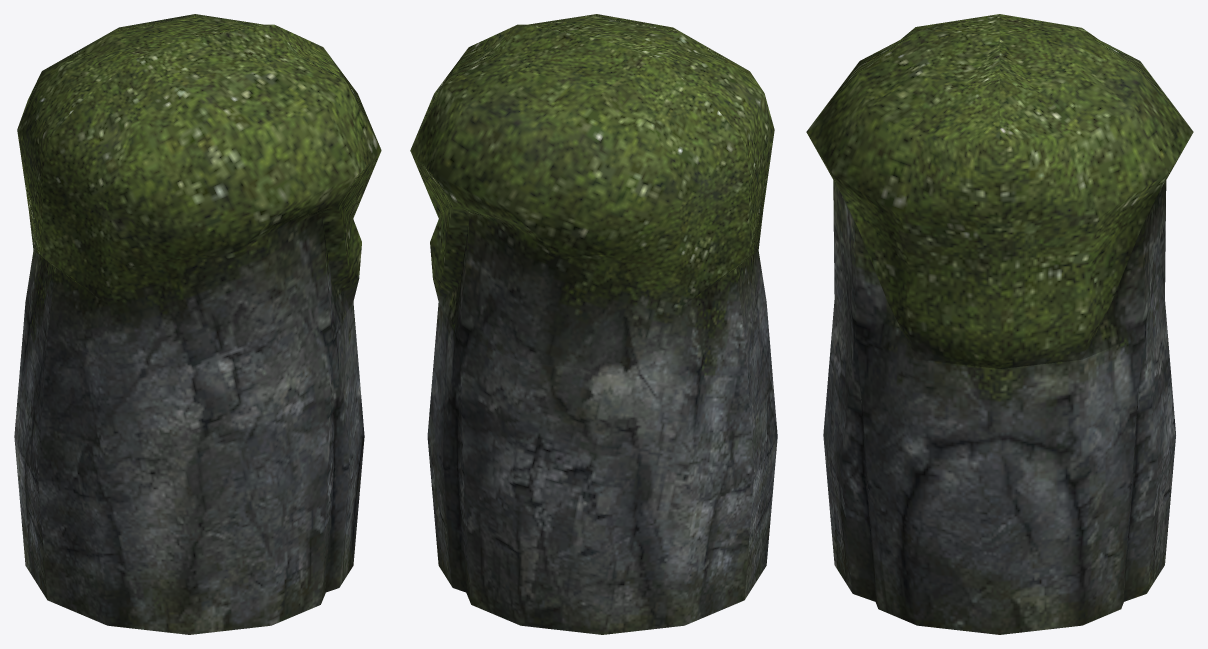
File: moss_rock_03_big.fbx
3 renders of one model, left to right at view 1: azimuth 30°, elevation 25°; view 2: azimuth 150°, elevation 25°; view 3: azimuth 270°, elevation 25°, orthographic.
Visible parts, largest first — view 1: objMoss_rock03_big; view 2: objMoss_rock03_big; view 3: objMoss_rock03_big.
Boxes of the visible parts, x1,y1,x2,y2 form: objMoss_rock03_big: (14, 14, 381, 634); objMoss_rock03_big: (410, 14, 777, 634); objMoss_rock03_big: (806, 14, 1193, 634).
Size of the model in its own units: 5.73 by 9 by 5.97.
